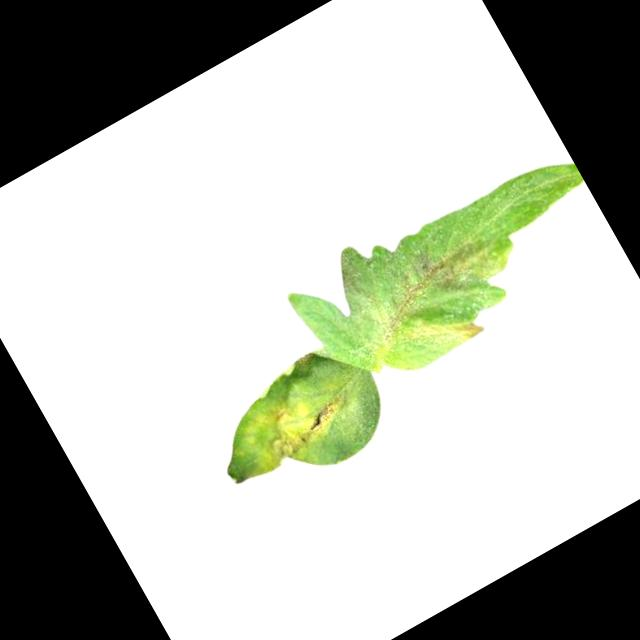Late_blight: (354, 222, 503, 342), (230, 375, 350, 477), (386, 295, 487, 376)
